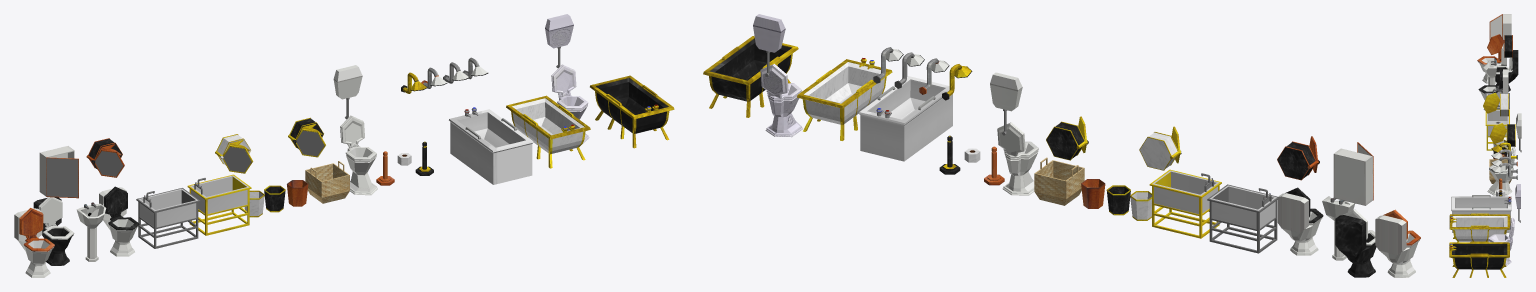
The model's file is BathroomFull.fbx.
3 views of the same model, side by side, from view 1: azimuth 30°, elevation 25°; view 2: azimuth 150°, elevation 25°; view 3: azimuth 270°, elevation 25° (orthographic). The views are drawn at different scales.
Visible parts, largest first — view 1: BathTubWhitePorcelain, StandingBathtubFancyGold.001, StandingBathtubFancyGold, WashingBasinWhiteSteel, WashingBasinWhiteGold, WovenHandBasket, MedicineCabinetDoor, WhiteToiletWoodLid, WhitePorcelainToilet, WhiteToiletBlackTopCistern, BlackMarbleToilet, WhiteStandingSink (+18 smaller); view 2: BathTubWhitePorcelain, StandingBathtubFancyGold, StandingBathtubFancyGold.001, WashingBasinWhiteSteel, WashingBasinWhiteGold, MedicineCabinet, WhiteToiletBlackTopCistern, WhiteToiletWoodLid, BlackMarbleToilet, WovenHandBasket, ToiletFancyCarved, WhitePorcelainToilet (+11 smaller); view 3: StandingBathtubFancyGold.001, StandingBathtubFancyGold, BathTubWhitePorcelain, WashingBasinWhiteGold, WhitePorcelainToilet, BlackMarbleToilet, WhiteToiletBlackTopCistern, WhiteToiletWoodLid, MedicineCabinetDoor, WhiteStandingSink, BlackMarbleCabinetWoodDoor, BlackMarbleCabinetDoor (+19 smaller).
Boxes of the visible parts, box(x1,y1,x2,y2) form: BathTubWhitePorcelain: box(449, 107, 533, 184); StandingBathtubFancyGold.001: box(590, 75, 674, 148); StandingBathtubFancyGold: box(506, 95, 590, 168); WashingBasinWhiteSteel: box(136, 188, 200, 248); WashingBasinWhiteGold: box(187, 174, 251, 235); WovenHandBasket: box(305, 161, 349, 203); MedicineCabinetDoor: box(46, 157, 78, 198); WhiteToiletWoodLid: box(14, 208, 54, 277); WhitePorcelainToilet: box(345, 145, 377, 195); WhiteToiletBlackTopCistern: box(99, 187, 139, 256); BlackMarbleToilet: box(33, 197, 74, 265); WhiteStandingSink: box(76, 202, 106, 261); BathTubWhitePorcelain: box(859, 76, 952, 161); StandingBathtubFancyGold: box(797, 58, 892, 140); StandingBathtubFancyGold.001: box(703, 36, 798, 117); WashingBasinWhiteSteel: box(1207, 184, 1277, 253); WashingBasinWhiteGold: box(1149, 169, 1221, 238); MedicineCabinet: box(1333, 148, 1372, 205); WhiteToiletBlackTopCistern: box(1277, 193, 1323, 255); WhiteToiletWoodLid: box(1375, 215, 1420, 277); BlackMarbleToilet: box(1335, 215, 1376, 277); WovenHandBasket: box(1034, 157, 1084, 205); ToiletFancyCarved: box(765, 83, 802, 137); WhitePorcelainToilet: box(1002, 141, 1038, 195); StandingBathtubFancyGold.001: box(1449, 241, 1509, 277); StandingBathtubFancyGold: box(1449, 213, 1510, 242); BathTubWhitePorcelain: box(1451, 195, 1511, 232); WashingBasinWhiteGold: box(1485, 105, 1509, 150); WhitePorcelainToilet: box(1487, 165, 1513, 195); BlackMarbleToilet: box(1495, 50, 1518, 91); WhiteToiletBlackTopCistern: box(1478, 69, 1508, 110); WhiteToiletWoodLid: box(1477, 46, 1506, 83); MedicineCabinetDoor: box(1489, 14, 1502, 40); WhiteStandingSink: box(1483, 60, 1497, 85); BlackMarbleCabinetWoodDoor: box(1487, 34, 1504, 54); BlackMarbleCabinetDoor: box(1489, 123, 1506, 143).
Bounding box in the file's own units: 4360 × 742 × 646.
69 materials, 42 textured.
